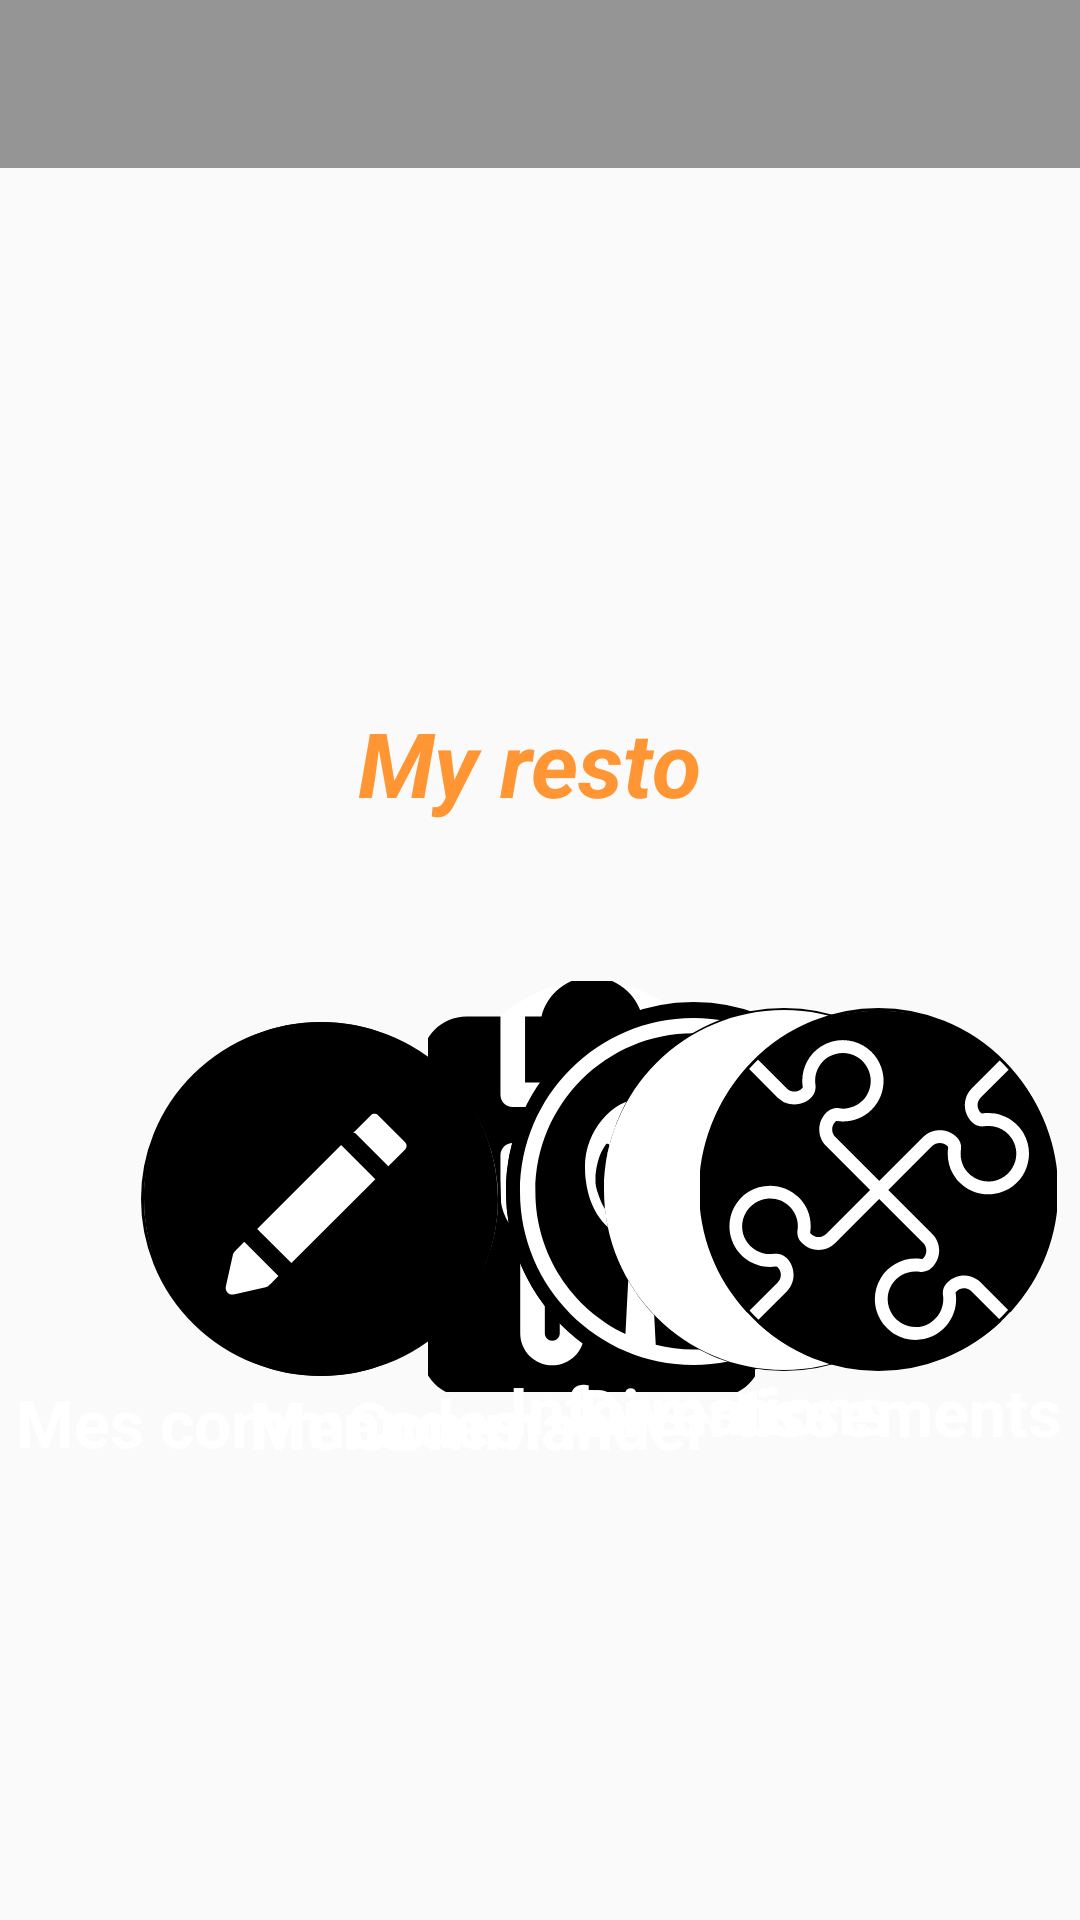

Locate icon controls on the screen. Image size 1080×1920, boxes as Rect(x1, y1, x2, y2).
pencil: Rect(141, 1022, 501, 1376)
